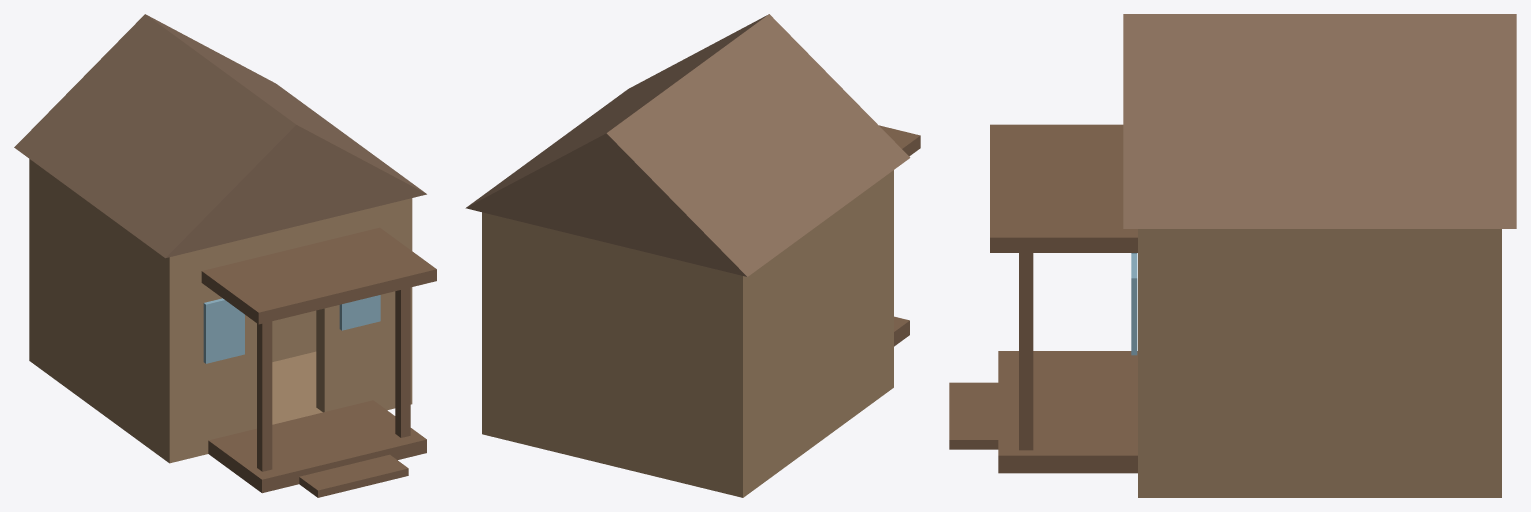
File: house.glb
3 renders of one model, left to right at view 1: azimuth 30°, elevation 25°; view 2: azimuth 150°, elevation 25°; view 3: azimuth 270°, elevation 25°, orthographic. The views are drawn at different scales.
Parts seen in each view (by area): view 1: building_0_19, building_0_1, building_0_14, building_0_10, building_0_4, building_0_5, building_0_0, building_0_11, building_0_12, building_0_15, building_0_13, building_0_8 (+3 smaller); view 2: building_0_19, building_0_3, building_0_1, building_0_0, building_0_2, building_0_14; view 3: building_0_2, building_0_19, building_0_14, building_0_10, building_0_0, building_0_11, building_0_13, building_0_8, building_0_16.
Part boxes in pixels (<box>): building_0_19: <box>14,14,426,258</box>; building_0_1: <box>29,159,183,462</box>; building_0_14: <box>201,227,436,324</box>; building_0_10: <box>208,400,426,493</box>; building_0_4: <box>184,236,256,457</box>; building_0_5: <box>316,201,397,412</box>; building_0_0: <box>29,349,412,463</box>; building_0_11: <box>299,454,408,497</box>; building_0_12: <box>257,321,272,471</box>; building_0_15: <box>203,298,244,363</box>; building_0_13: <box>395,287,410,437</box>; building_0_8: <box>272,310,316,361</box>; building_0_19: <box>465,14,910,276</box>; building_0_3: <box>497,216,727,493</box>; building_0_1: <box>727,170,893,497</box>; building_0_0: <box>482,375,893,497</box>; building_0_2: <box>482,212,497,431</box>; building_0_14: <box>879,125,920,156</box>; building_0_2: <box>1138,229,1501,497</box>; building_0_19: <box>1123,14,1516,228</box>; building_0_14: <box>990,124,1137,252</box>; building_0_10: <box>998,351,1137,473</box>; building_0_0: <box>1138,482,1501,497</box>; building_0_11: <box>949,382,998,449</box>; building_0_13: <box>1019,253,1033,450</box>; building_0_8: <box>1309,229,1330,497</box>; building_0_16: <box>1131,253,1137,355</box>.
Size of the model in its own units: 3.24 by 3.7 by 4.67.
